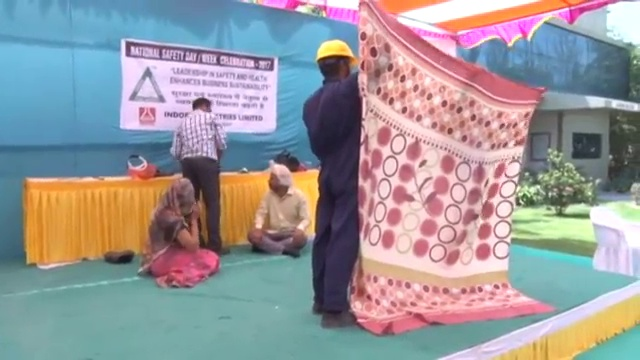helmet: (315, 39, 358, 65)
helmet_off: (160, 175, 196, 208), (266, 161, 292, 194), (190, 97, 215, 117)
helmet_on: (314, 38, 358, 79)
person: (302, 39, 362, 328), (173, 95, 234, 256), (143, 176, 220, 289), (245, 163, 310, 260)
